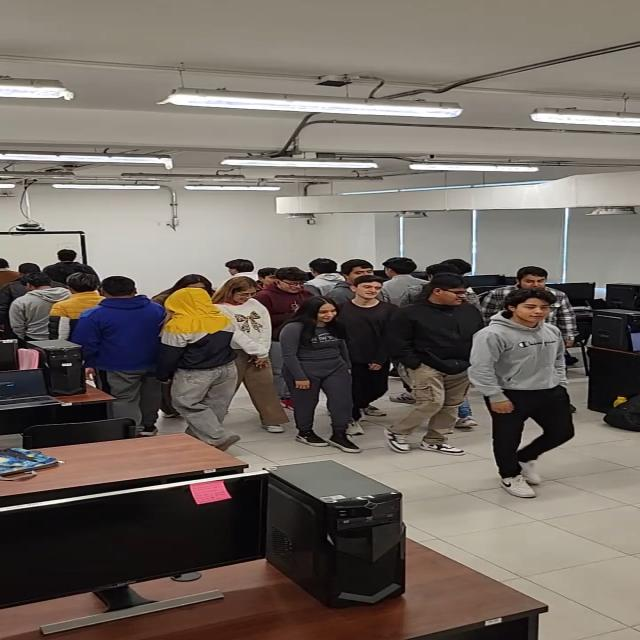Persona: (466, 288, 580, 498), (384, 271, 485, 460), (71, 274, 176, 437), (158, 287, 245, 451), (203, 274, 291, 436), (278, 296, 366, 455), (332, 274, 400, 436), (475, 266, 584, 350), (316, 257, 432, 306), (8, 275, 70, 341), (49, 273, 103, 338), (3, 264, 68, 316), (38, 246, 105, 282), (152, 273, 213, 306), (262, 268, 315, 304), (0, 255, 18, 295), (224, 260, 255, 279)
